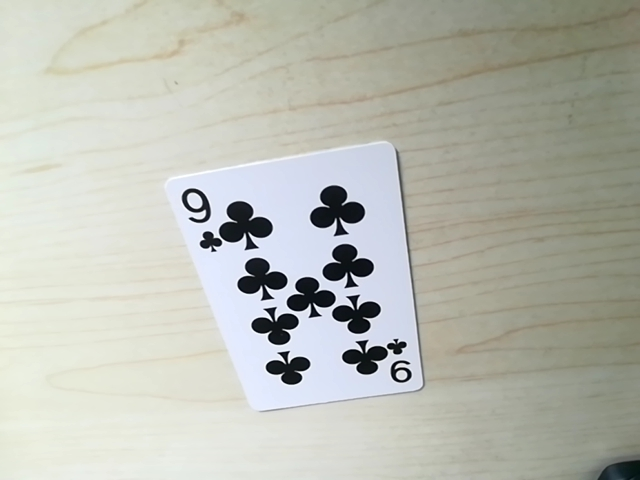mh 9: (177, 188, 220, 259), (385, 338, 420, 387)
